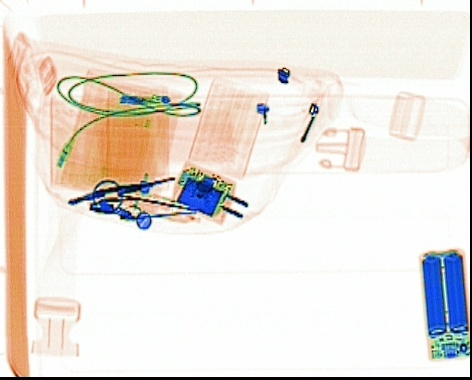powerbank: (417, 245, 467, 361)
